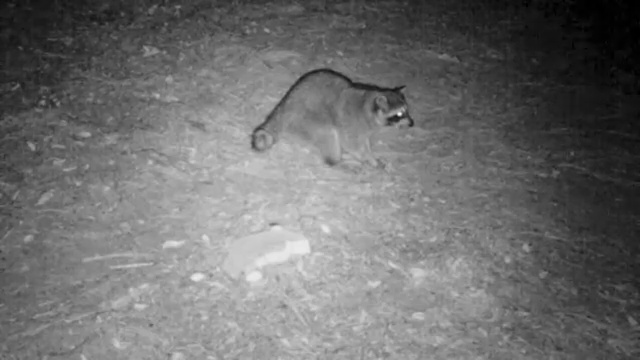raccoon: (248, 62, 419, 172)
